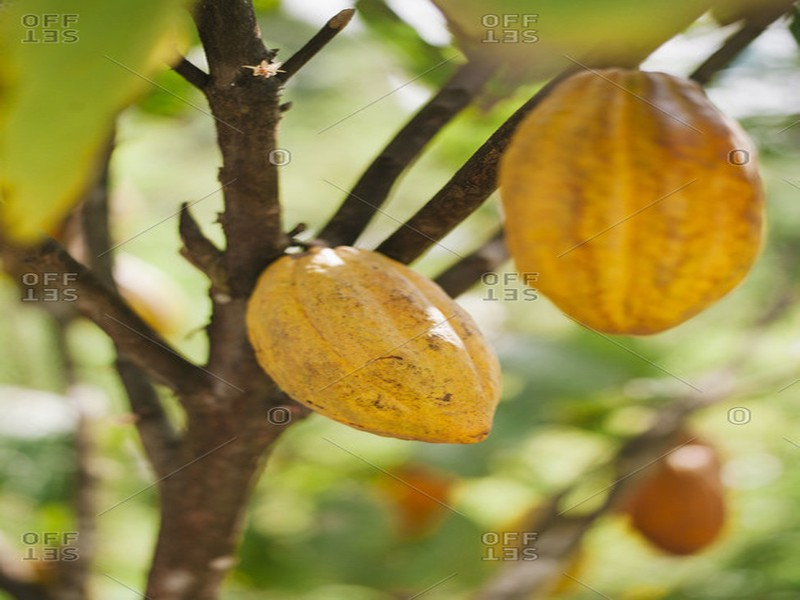Cacaopod: (499, 64, 766, 335), (244, 247, 507, 444)
